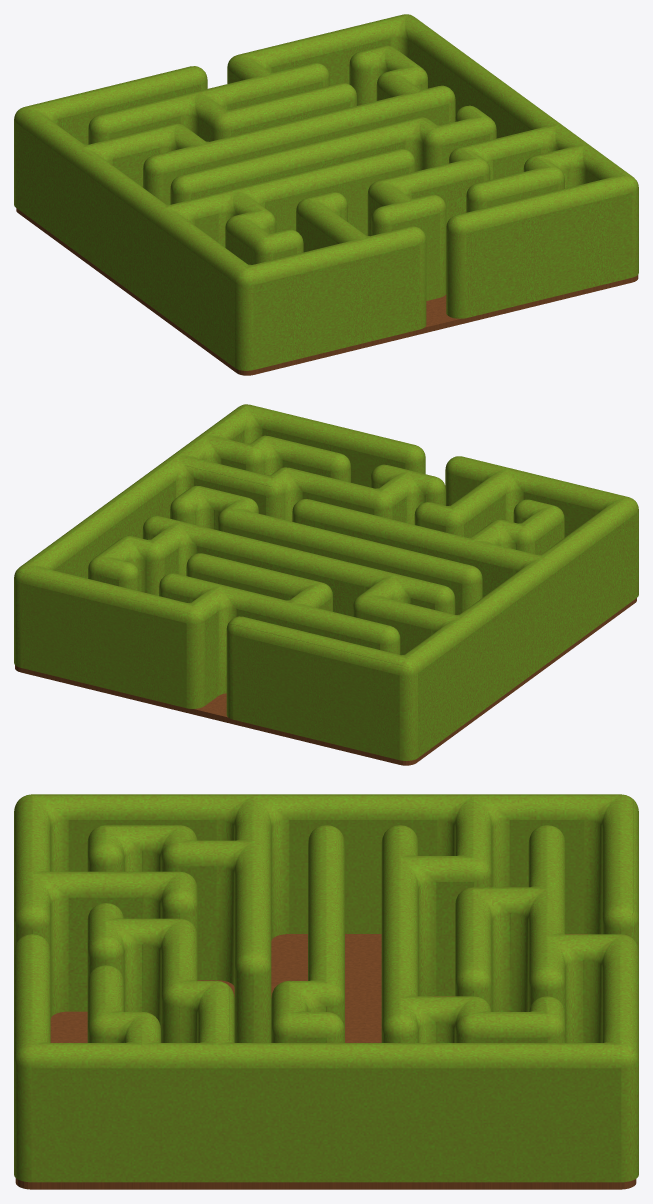
Rendered from mazegrasswall.fbx.
The picture shows the model from 3 angles, top to bottom: view 1: azimuth 30°, elevation 25°; view 2: azimuth 150°, elevation 25°; view 3: azimuth 270°, elevation 25°; orthographic projection. The views are drawn at different scales.
Parts seen in each view (by area): view 1: Plane, Plane.001; view 2: Plane, Plane.001; view 3: Plane, Plane.001.
Boxes of the visible parts, left/top/right/bottom form: Plane: left=14, top=14, right=638, bottom=370; Plane.001: left=16, top=208, right=638, bottom=375; Plane: left=14, top=404, right=638, bottom=760; Plane.001: left=15, top=598, right=636, bottom=765; Plane: left=14, top=794, right=638, bottom=1182; Plane.001: left=15, top=934, right=636, bottom=1189.
Bounding box in the file's own units: 3899 × 949 × 3906.
Materials: 2 (2 with a texture image).
